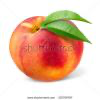Peach leaf: (39, 20, 95, 47), (39, 9, 92, 26)
